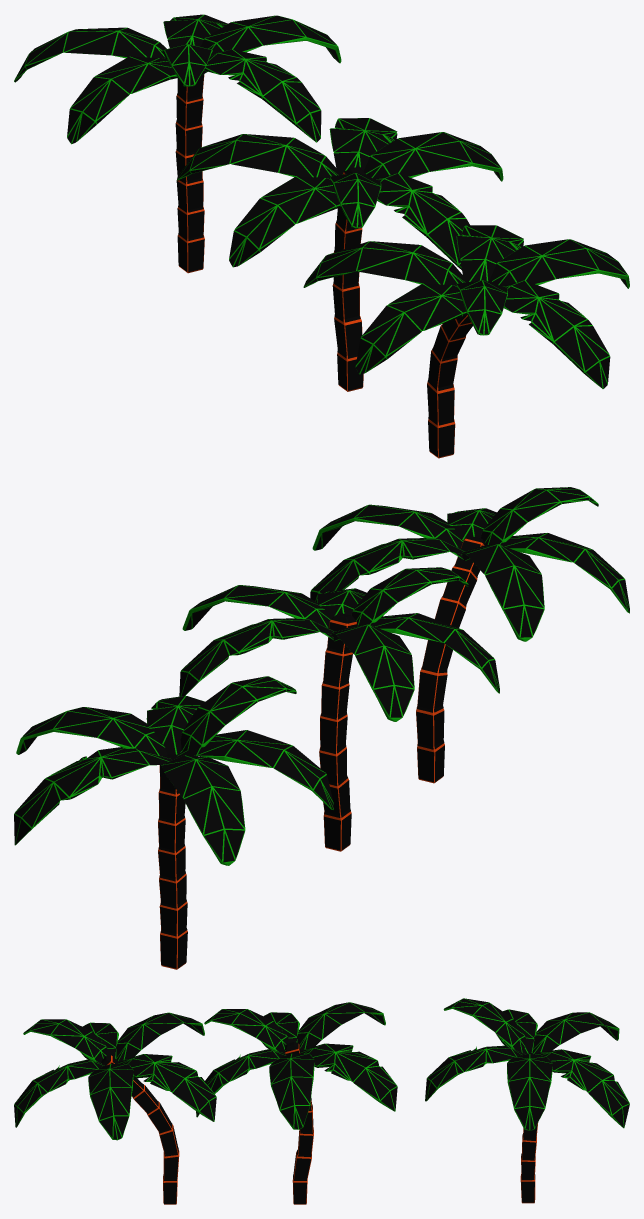
Rendered from Palm tree 1.fbx.
3 renders of one model, top to bottom at view 1: azimuth 30°, elevation 25°; view 2: azimuth 150°, elevation 25°; view 3: azimuth 270°, elevation 25°, orthographic. The views are drawn at different scales.
Visible parts, largest first — view 1: Cube.002, Cube, Cube.001; view 2: Cube.001, Cube, Cube.002; view 3: Cube.002, Cube.001, Cube.
Part boxes in pixels (x1,y1,x2,y2): Cube.002: (303, 225, 629, 458); Cube: (177, 118, 503, 391); Cube.001: (14, 14, 341, 273); Cube.001: (14, 676, 333, 969); Cube: (179, 567, 499, 851); Cube.002: (310, 487, 629, 783); Cube.002: (14, 1012, 216, 1204); Cube.001: (425, 998, 629, 1203); Cube: (196, 1002, 397, 1204).
Size of the model in its own units: 971 by 828 by 2509.
